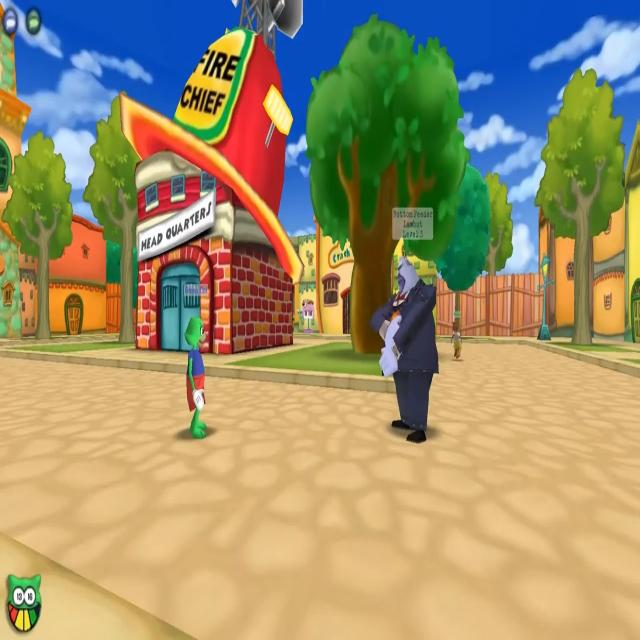bottomfeeder: (373, 197, 440, 442)
